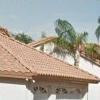Palm tree: (46, 13, 87, 67)
